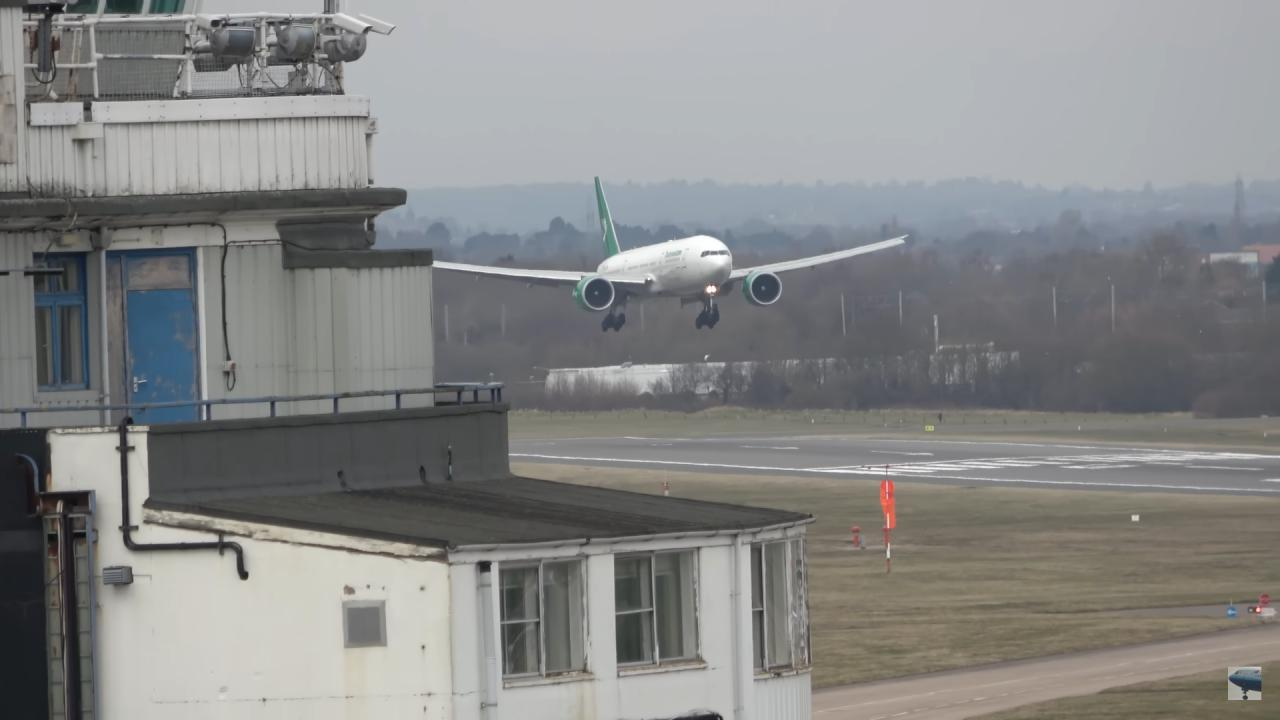Airplane: (425, 168, 923, 346)
